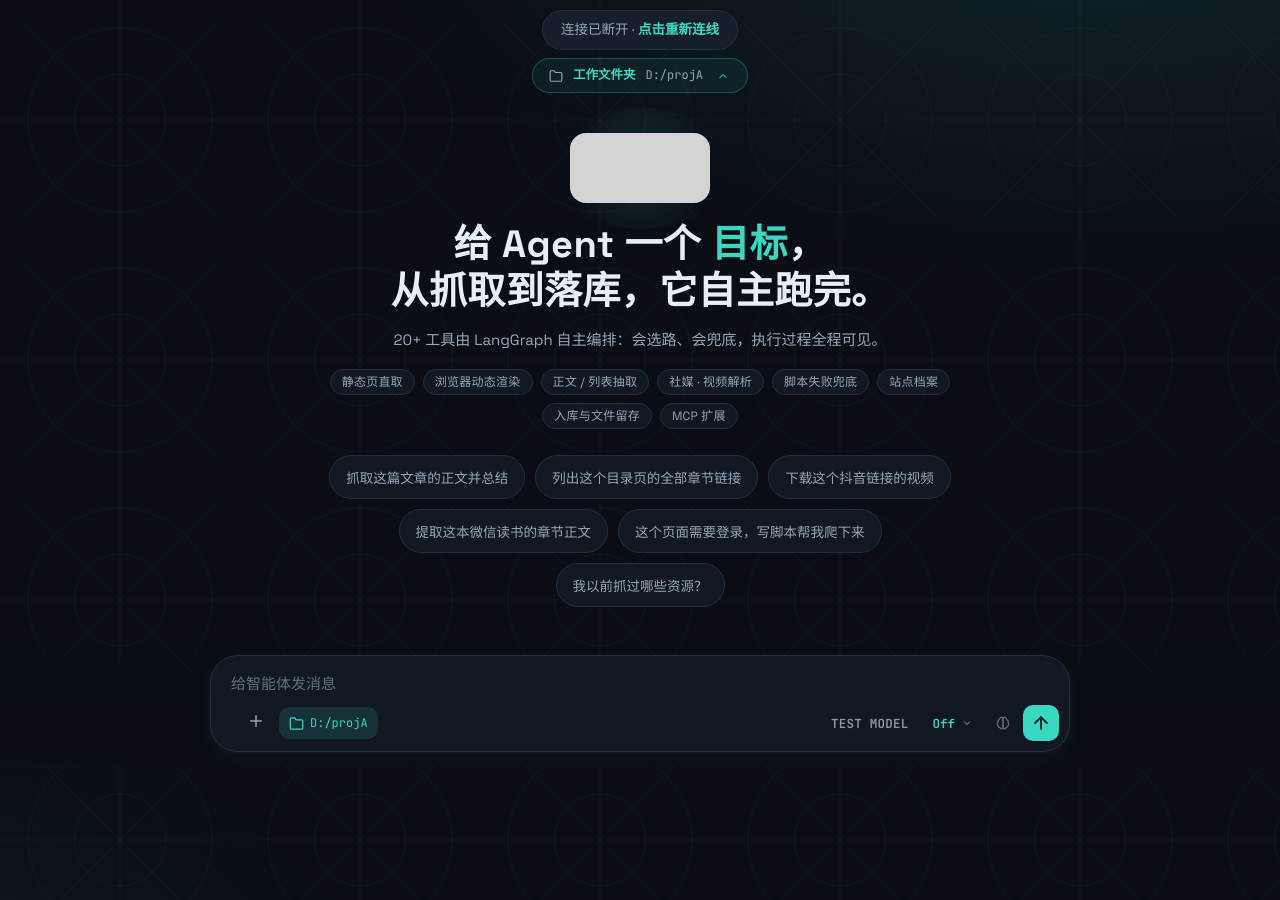
Test: ChatPage › 已绑定点箭头 → 只读卡片（路径 + 存在状态，无操作项）
What coordinates should you click on to do the following:
click the button with class "wd-switch"
I would click on:
 (723, 76)
Its box is [713, 66, 733, 86].
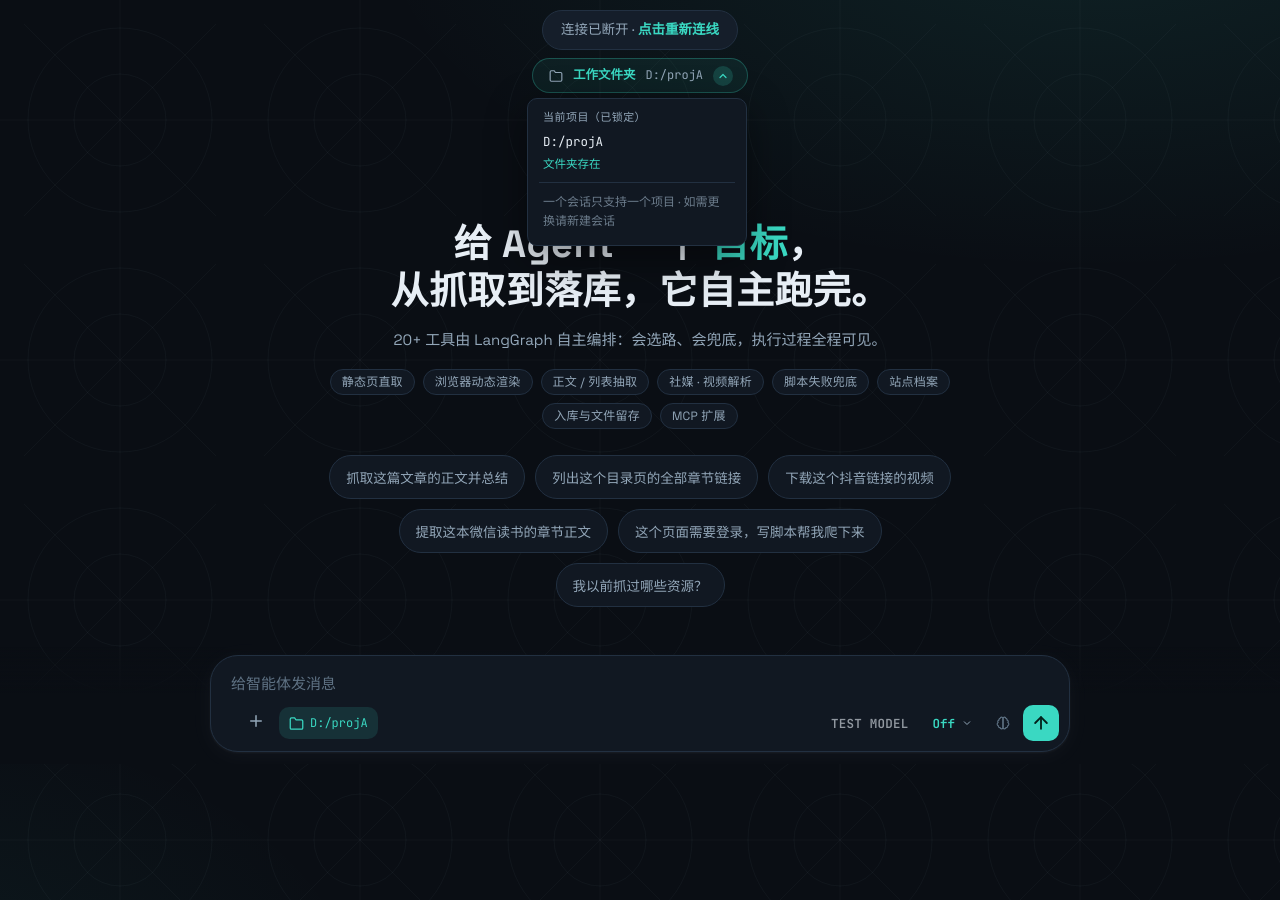
Expected: the message "当前项目（已锁定） D:/projA 文件夹存在 一个会话只支持一个项目 · 如需更换请新建会话" is shown, [527, 98, 747, 246]
Expected: the text with class "wd-menu-path" reads "D:/projA", [543, 133, 603, 150]
Expected: the text with class "wd-menu-status" reads "文件夹存在", [543, 157, 601, 171]
